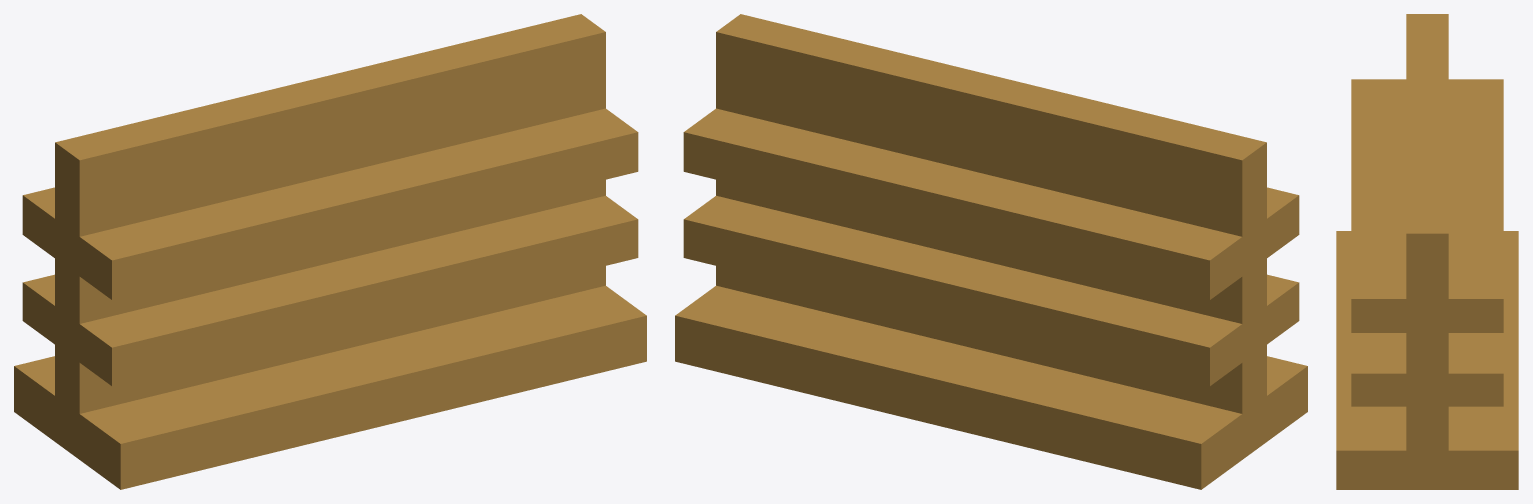
Rendered from shelf type 2 outline.fbx.
The picture shows the model from 3 angles, left to right: view 1: azimuth 30°, elevation 25°; view 2: azimuth 150°, elevation 25°; view 3: azimuth 270°, elevation 25°; orthographic projection. The views are drawn at different scales.
Parts seen in each view (by area): view 1: shelf 2.1; view 2: shelf 2.1; view 3: shelf 2.1.
Boxes of the visible parts, box(x1,y1,x2,y2) form: shelf 2.1: box(14, 14, 646, 489); shelf 2.1: box(675, 14, 1307, 489); shelf 2.1: box(1336, 14, 1518, 489).
Size of the model in its own units: 857 by 466 by 300.
